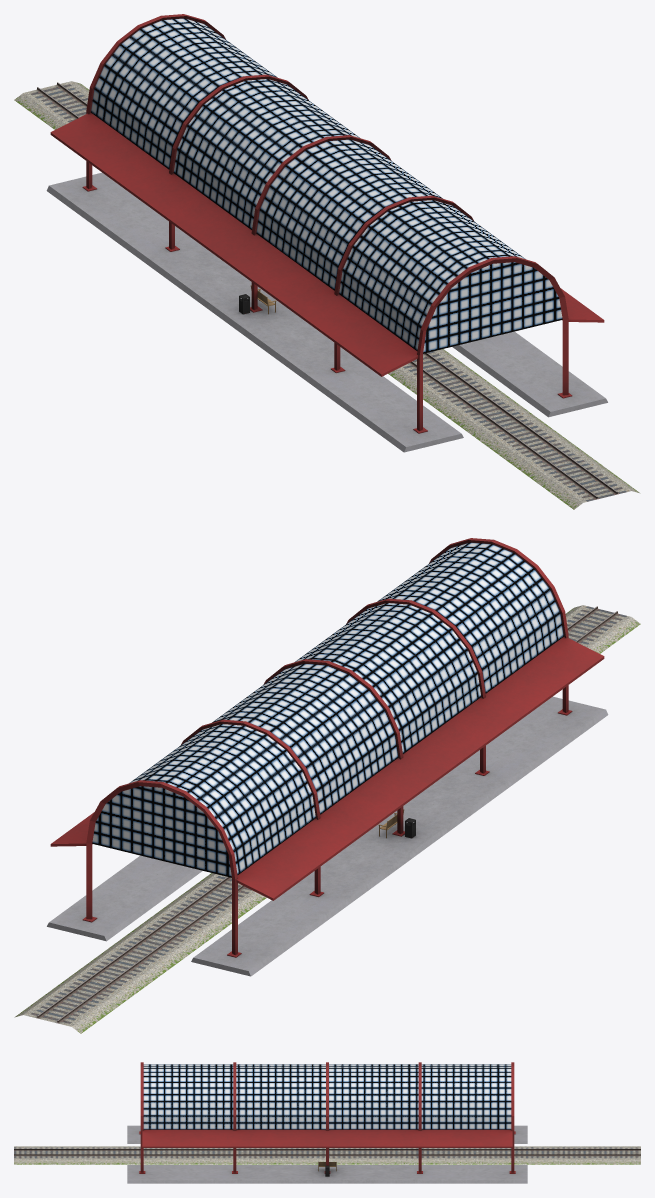
The model's file is Tr_Station1.fbx.
3 renders of one model, top to bottom at view 1: azimuth 30°, elevation 25°; view 2: azimuth 150°, elevation 25°; view 3: azimuth 270°, elevation 25°, orthographic. The views are drawn at different scales.
Parts seen in each view (by area): view 1: U3DMesh; view 2: U3DMesh; view 3: U3DMesh.
Boxes of the visible parts, x1,y1,x2,y2 form: U3DMesh: (14,14,640,509); U3DMesh: (14,538,640,1033); U3DMesh: (14,1062,640,1183).
Size of the model in its own units: 14.71 by 10.02 by 64.
